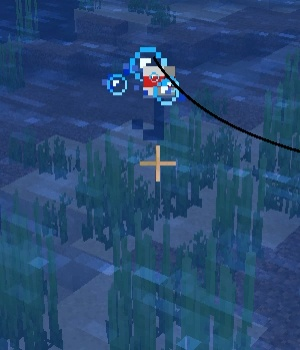up: (130, 64, 178, 142)
